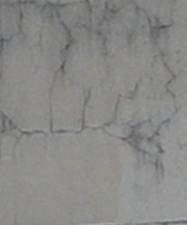fissura: (5, 1, 179, 173)
